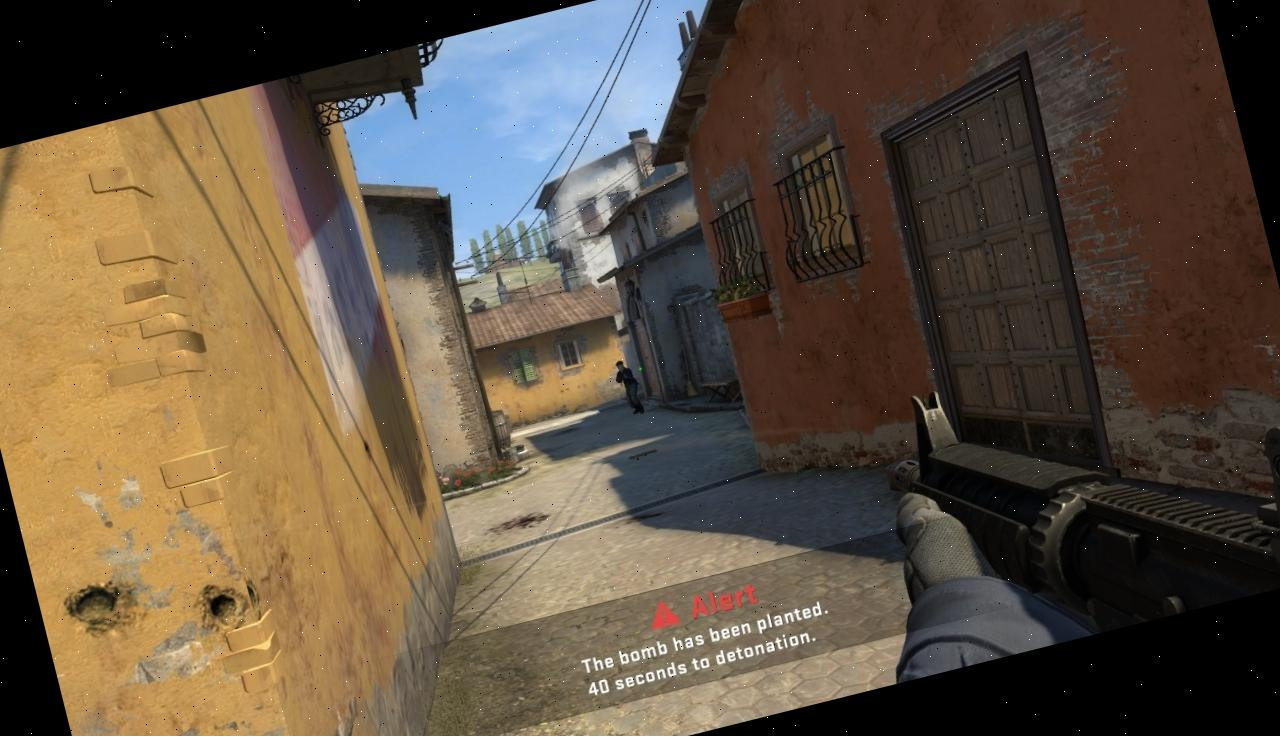rifle: (864, 302, 1280, 674)
tt: (614, 358, 644, 418)
tthead: (616, 359, 626, 370)
